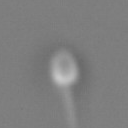normal: (50, 87, 86, 128)
